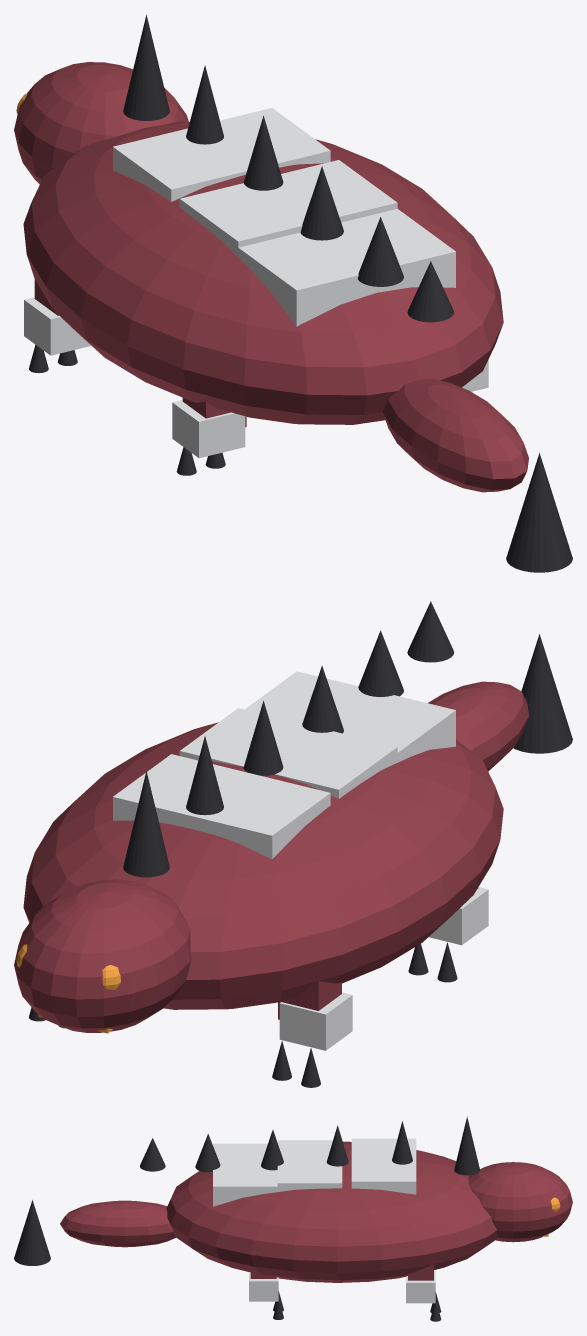
File: SM_Unit_DustStalker.fbx
3 renders of one model, top to bottom at view 1: azimuth 30°, elevation 25°; view 2: azimuth 150°, elevation 25°; view 3: azimuth 270°, elevation 25°, orthographic. The views are drawn at different scales.
Parts seen in each view (by area): view 1: SM_Unit_DustStalker; view 2: SM_Unit_DustStalker; view 3: SM_Unit_DustStalker.
Part boxes in pixels (x1,y1,x2,y2): SM_Unit_DustStalker: (14, 14, 572, 572); SM_Unit_DustStalker: (14, 601, 572, 1087); SM_Unit_DustStalker: (14, 1116, 572, 1321).
Size of the model in its own units: 1.26 by 0.992 by 3.02.
